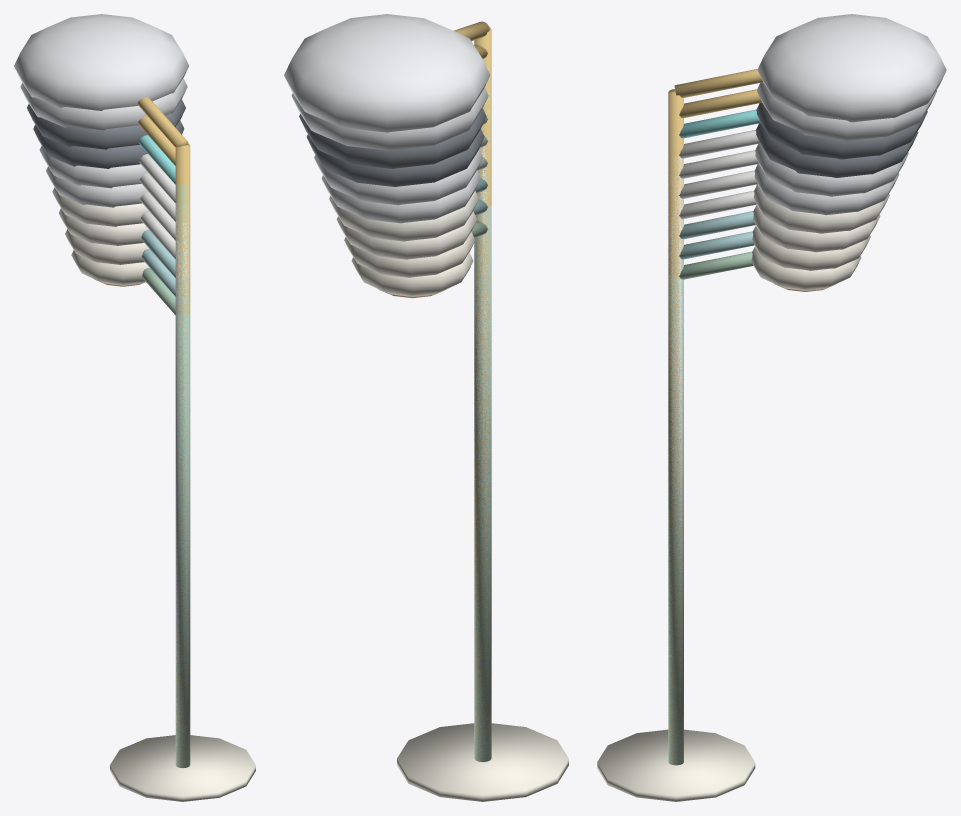
File: Gear03.fbx
The picture shows the model from 3 angles, left to right: view 1: azimuth 30°, elevation 25°; view 2: azimuth 150°, elevation 25°; view 3: azimuth 270°, elevation 25°; orthographic projection. The views are drawn at different scales.
Parts seen in each view (by area): view 1: Gear03_V10_Platinum, Gear03_V1_Ivory, Gear03_V1_Sage, Gear03_V10_Gold, Gear03_V3_Blue, Gear03_V9_Platinum, Gear03_V8_Graphite, Gear03_V6_Chrome, Gear03_V7_Graphite, Gear03_V5_Chrome, Gear03_V8_Aqua, Gear03_V6_Platinum (+8 smaller); view 2: Gear03_V10_Platinum, Gear03_V1_Ivory, Gear03_V10_Gold, Gear03_V1_Sage, Gear03_V2_Blue, Gear03_V9_Platinum, Gear03_V8_Graphite, Gear03_V7_Graphite, Gear03_V6_Platinum, Gear03_V5_Platinum, Gear03_V4_Linen, Gear03_V3_Linen (+6 smaller); view 3: Gear03_V10_Platinum, Gear03_V1_Ivory, Gear03_V10_Gold, Gear03_V1_Sage, Gear03_V4_Chrome, Gear03_V9_Platinum, Gear03_V8_Graphite, Gear03_V7_Graphite, Gear03_V6_Platinum, Gear03_V5_Platinum, Gear03_V2_Blue, Gear03_V4_Linen (+8 smaller).
Boxes of the visible parts, bbox=[...] form: Gear03_V10_Platinum: bbox=[14, 14, 188, 110]; Gear03_V1_Ivory: bbox=[71, 250, 255, 801]; Gear03_V1_Sage: bbox=[142, 268, 190, 767]; Gear03_V10_Gold: bbox=[137, 97, 190, 767]; Gear03_V3_Blue: bbox=[141, 230, 189, 766]; Gear03_V9_Platinum: bbox=[20, 78, 187, 130]; Gear03_V8_Graphite: bbox=[27, 99, 185, 149]; Gear03_V6_Chrome: bbox=[139, 173, 189, 766]; Gear03_V7_Graphite: bbox=[33, 120, 184, 168]; Gear03_V5_Chrome: bbox=[140, 192, 188, 766]; Gear03_V8_Aqua: bbox=[138, 135, 190, 761]; Gear03_V6_Platinum: bbox=[39, 145, 147, 188]; Gear03_V10_Platinum: bbox=[284, 14, 490, 132]; Gear03_V1_Ivory: bbox=[351, 252, 568, 801]; Gear03_V10_Gold: bbox=[454, 21, 491, 761]; Gear03_V1_Sage: bbox=[471, 221, 491, 761]; Gear03_V2_Blue: bbox=[473, 199, 491, 760]; Gear03_V9_Platinum: bbox=[291, 88, 488, 150]; Gear03_V8_Graphite: bbox=[299, 108, 486, 168]; Gear03_V7_Graphite: bbox=[306, 129, 484, 186]; Gear03_V6_Platinum: bbox=[314, 150, 482, 205]; Gear03_V5_Platinum: bbox=[321, 170, 480, 223]; Gear03_V4_Linen: bbox=[329, 191, 478, 241]; Gear03_V3_Linen: bbox=[336, 211, 477, 259]; Gear03_V10_Platinum: bbox=[757, 14, 946, 122]; Gear03_V1_Ivory: bbox=[597, 247, 861, 801]; Gear03_V10_Gold: bbox=[668, 69, 762, 764]; Gear03_V1_Sage: bbox=[668, 251, 753, 765]; Gear03_V4_Chrome: bbox=[668, 190, 756, 760]; Gear03_V9_Platinum: bbox=[757, 82, 936, 140]; Gear03_V8_Graphite: bbox=[756, 103, 927, 159]; Gear03_V7_Graphite: bbox=[755, 123, 918, 177]; Gear03_V6_Platinum: bbox=[755, 143, 908, 196]; Gear03_V5_Platinum: bbox=[754, 164, 899, 215]; Gear03_V2_Blue: bbox=[668, 231, 754, 765]; Gear03_V4_Linen: bbox=[754, 184, 889, 233].
Bounding box in the file's own units: 52.8 × 227 × 97.36.
